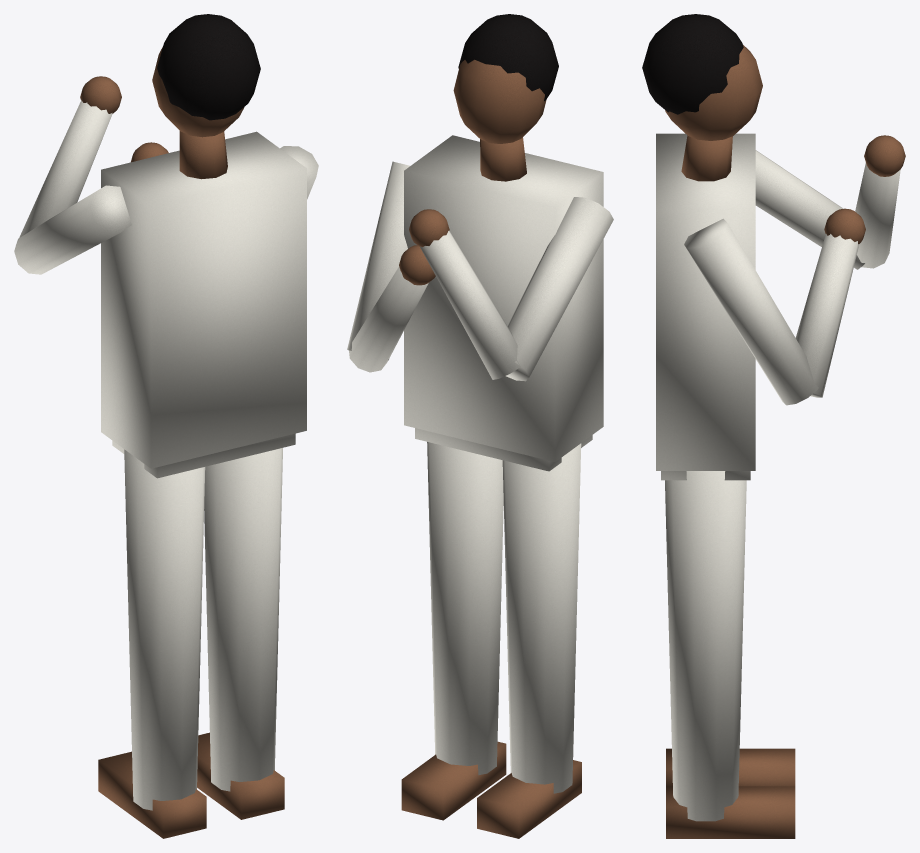
The model's file is musico_viento.obj.
3 renders of one model, left to right at view 1: azimuth 30°, elevation 25°; view 2: azimuth 150°, elevation 25°; view 3: azimuth 270°, elevation 25°, orthographic. The views are drawn at different scales.
Visible parts, largest first — view 1: musico_viento; view 2: musico_viento; view 3: musico_viento.
Part boxes in pixels (x1,y1,x2,y2): musico_viento: (14, 14, 318, 838); musico_viento: (347, 14, 613, 838); musico_viento: (642, 14, 905, 838).
Size of the model in its own units: 0.5151 by 1.76 by 0.53.
3 materials, 3 textured.
